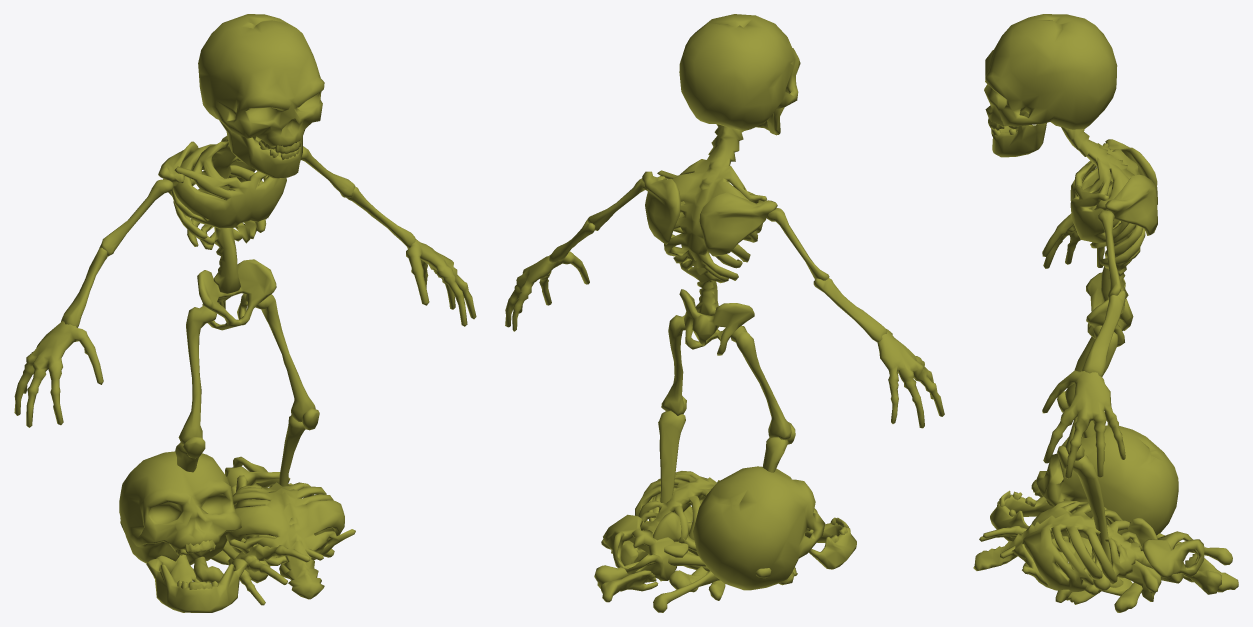
File: Skeleton_01_Parts.fbx
3 renders of one model, left to right at view 1: azimuth 30°, elevation 25°; view 2: azimuth 150°, elevation 25°; view 3: azimuth 270°, elevation 25°, orthographic. The views are drawn at different scales.
Parts seen in each view (by area): view 1: BonePile_B, Head, BonePile_A, Torso, HandRight, Pelvis, HandLeft, Jaw, LegUpperRight, BonePile_C, LegUpperLeft, ArmUpperRight (+6 smaller); view 2: BonePile_B, Head, Torso, BonePile_A, ScapulaRight, HandRight, Pelvis, ScapulaLeft, HandLeft, LegLowerLeft, LegUpperRight, BonePile_D (+6 smaller); view 3: Head, BonePile_B, BonePile_A, Torso, HandLeft, ScapulaLeft, Jaw, LegLowerLeft, ArmLowerLeft, Pelvis, BonePile_D, HandRight (+5 smaller).
Part boxes in pixels (x1,y1,x2,y2): BonePile_B: [119, 451, 289, 612]; Head: [198, 14, 324, 154]; BonePile_A: [120, 456, 355, 599]; Torso: [170, 136, 286, 293]; HandRight: [14, 321, 103, 427]; Pelvis: [197, 259, 276, 330]; HandLeft: [406, 239, 476, 326]; Jaw: [220, 121, 302, 178]; LegUpperRight: [178, 305, 216, 444]; BonePile_C: [211, 544, 323, 605]; LegUpperLeft: [255, 294, 315, 422]; ArmUpperRight: [101, 179, 173, 256]; BonePile_B: [594, 466, 856, 590]; Head: [679, 14, 800, 131]; Torso: [657, 124, 766, 315]; BonePile_A: [600, 471, 771, 602]; ScapulaRight: [699, 192, 777, 256]; HandRight: [877, 329, 944, 428]; Pelvis: [679, 289, 754, 355]; ScapulaLeft: [642, 171, 680, 244]; HandLeft: [505, 251, 589, 331]; LegLowerLeft: [658, 411, 685, 513]; LegUpperRight: [730, 325, 791, 440]; BonePile_D: [645, 511, 794, 592]; Head: [984, 14, 1117, 130]; BonePile_B: [990, 425, 1221, 612]; BonePile_A: [973, 500, 1238, 592]; Torso: [1061, 127, 1145, 301]; HandLeft: [1042, 370, 1125, 478]; ScapulaLeft: [1096, 174, 1157, 235]; Jaw: [991, 123, 1046, 157]; LegLowerLeft: [1072, 454, 1112, 566]; ArmLowerLeft: [1082, 290, 1125, 376]; Pelvis: [1086, 272, 1133, 346]; BonePile_D: [1055, 517, 1157, 602]; HandRight: [1042, 213, 1114, 268].
Bounding box in the file's own units: 1.53 × 1.81 × 0.794.
